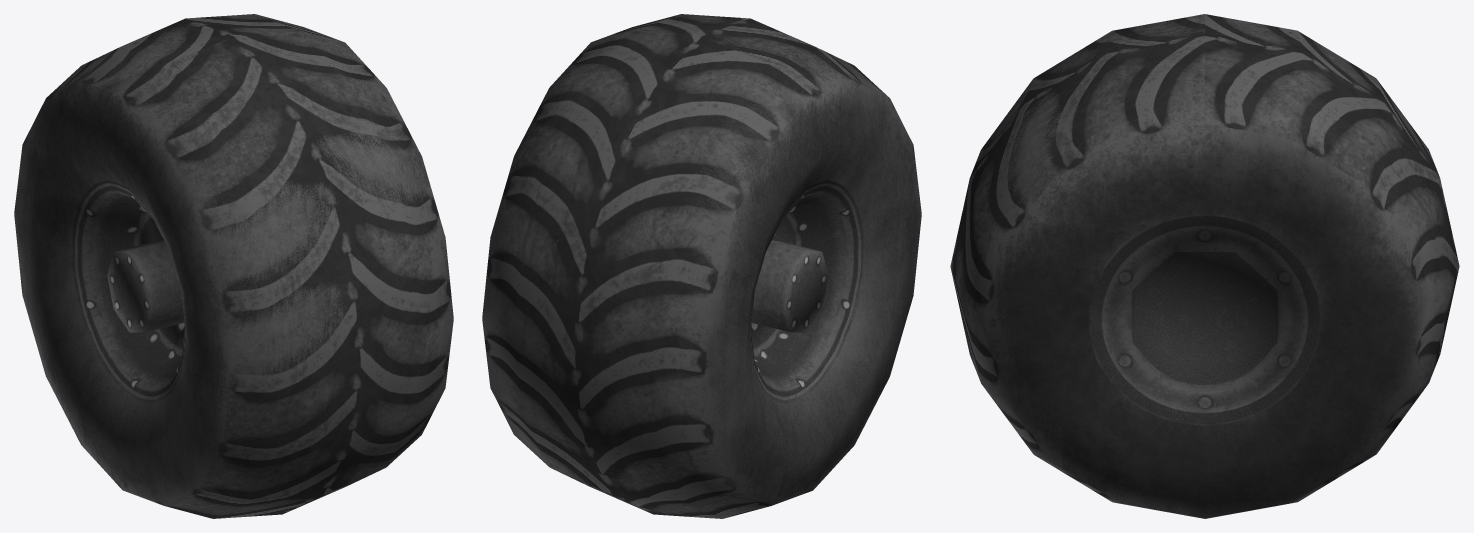
File: Wheel FL KAMAZ Arctica.fbx
3 views of the same model, side by side, from view 1: azimuth 30°, elevation 25°; view 2: azimuth 150°, elevation 25°; view 3: azimuth 270°, elevation 25° (orthographic).
Visible parts, largest first — view 1: Wheel FL; view 2: Wheel FL; view 3: Wheel FL.
Boxes of the visible parts, bbox=[...] form: Wheel FL: bbox=[14, 14, 453, 518]; Wheel FL: bbox=[482, 14, 921, 518]; Wheel FL: bbox=[950, 14, 1459, 518].
Bounding box in the file's own units: 121 × 220 × 220.
